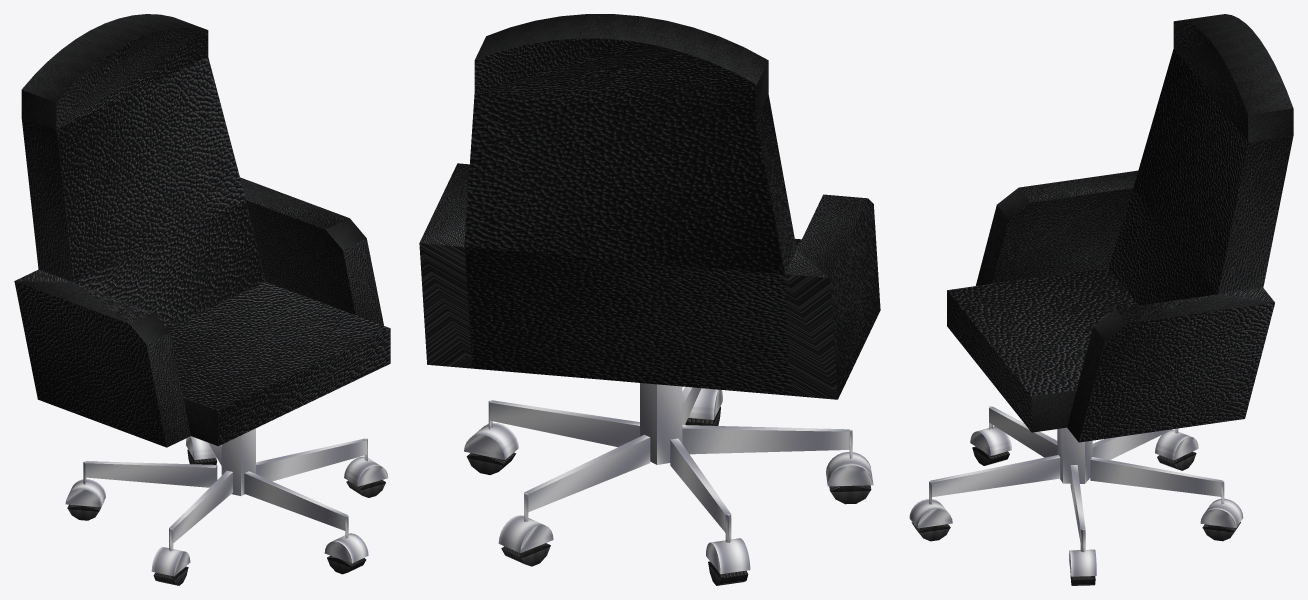
File: silla.obj
The picture shows the model from 3 angles, left to right: view 1: azimuth 30°, elevation 25°; view 2: azimuth 150°, elevation 25°; view 3: azimuth 270°, elevation 25°; orthographic projection. The views are drawn at different scales.
Parts seen in each view (by area): view 1: silla:Mesh polySurface1, polySurface2 silla:Mesh polySurface5, polySurface2 silla:Mesh polySurface10, polySurface2 silla:Mesh polySurface4, polySurface2 silla:Mesh polySurface8, polySurface2 silla:Mesh polySurface7, polySurface2 silla:Mesh polySurface3, polySurface2 silla:Mesh polySurface9, polySurface2 silla:Mesh polySurface13, polySurface2 silla:Mesh polySurface11, polySurface6 polySurface2 silla:Mesh; view 2: silla:Mesh polySurface1, polySurface2 silla:Mesh polySurface7, polySurface2 silla:Mesh polySurface4, polySurface2 silla:Mesh polySurface12, polySurface2 silla:Mesh polySurface8, polySurface2 silla:Mesh polySurface5, polySurface6 polySurface2 silla:Mesh, polySurface2 silla:Mesh polySurface9, polySurface2 silla:Mesh polySurface11, polySurface2 silla:Mesh polySurface13, polySurface2 silla:Mesh polySurface3, polySurface2 silla:Mesh polySurface14 polySurface19 (+2 smaller); view 3: silla:Mesh polySurface1, polySurface2 silla:Mesh polySurface12, polySurface2 silla:Mesh polySurface10, polySurface2 silla:Mesh polySurface8, polySurface2 silla:Mesh polySurface7, polySurface2 silla:Mesh polySurface5, polySurface6 polySurface2 silla:Mesh, polySurface2 silla:Mesh polySurface3, polySurface2 silla:Mesh polySurface13, polySurface2 silla:Mesh polySurface11, polySurface2 silla:Mesh polySurface4, polySurface2 silla:Mesh polySurface9.
Part boxes in pixels (x1,y1,x2,y2): silla:Mesh polySurface1: (14, 14, 390, 447); polySurface2 silla:Mesh polySurface5: (83, 461, 217, 487); polySurface2 silla:Mesh polySurface10: (244, 471, 348, 538); polySurface2 silla:Mesh polySurface4: (256, 438, 367, 481); polySurface2 silla:Mesh polySurface8: (221, 428, 255, 495); polySurface2 silla:Mesh polySurface7: (169, 470, 232, 551); polySurface2 silla:Mesh polySurface3: (324, 533, 368, 563); polySurface2 silla:Mesh polySurface9: (344, 456, 388, 486); polySurface2 silla:Mesh polySurface13: (65, 479, 105, 507); polySurface2 silla:Mesh polySurface11: (151, 547, 190, 576); polySurface6 polySurface2 silla:Mesh: (186, 436, 216, 459); silla:Mesh polySurface1: (419, 14, 880, 399); polySurface2 silla:Mesh polySurface7: (682, 425, 852, 458); polySurface2 silla:Mesh polySurface4: (488, 400, 639, 446); polySurface2 silla:Mesh polySurface12: (524, 434, 650, 521); polySurface2 silla:Mesh polySurface8: (640, 383, 682, 464); polySurface2 silla:Mesh polySurface5: (670, 438, 731, 542); polySurface6 polySurface2 silla:Mesh: (498, 515, 553, 553); polySurface2 silla:Mesh polySurface9: (464, 423, 518, 459); polySurface2 silla:Mesh polySurface11: (826, 452, 873, 486); polySurface2 silla:Mesh polySurface13: (706, 538, 750, 574); polySurface2 silla:Mesh polySurface3: (688, 388, 722, 419); polySurface2 silla:Mesh polySurface14 polySurface19: (466, 452, 516, 474); silla:Mesh polySurface1: (947, 14, 1293, 442); polySurface2 silla:Mesh polySurface12: (1090, 457, 1224, 504); polySurface2 silla:Mesh polySurface10: (929, 455, 1060, 504); polySurface2 silla:Mesh polySurface8: (1057, 427, 1092, 483); polySurface2 silla:Mesh polySurface7: (989, 406, 1057, 457); polySurface2 silla:Mesh polySurface5: (1092, 428, 1178, 459); polySurface6 polySurface2 silla:Mesh: (1200, 498, 1243, 527); polySurface2 silla:Mesh polySurface3: (909, 499, 952, 528); polySurface2 silla:Mesh polySurface13: (1155, 430, 1198, 460); polySurface2 silla:Mesh polySurface11: (970, 426, 1011, 455); polySurface2 silla:Mesh polySurface4: (1070, 465, 1085, 552); polySurface2 silla:Mesh polySurface9: (1069, 549, 1096, 576).
Bounding box in the file's own units: 0.8912 × 1.16 × 0.8815.
Materials: 3 (3 with a texture image).
